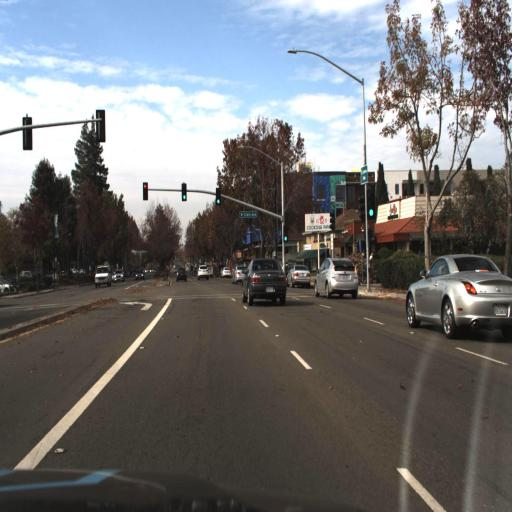car: (404, 252, 511, 335), (242, 256, 290, 308), (313, 258, 356, 296), (285, 259, 310, 289), (91, 262, 114, 294), (233, 259, 254, 289), (95, 261, 112, 290), (195, 260, 214, 282), (171, 263, 188, 286), (281, 221, 292, 245)
trafficLight-Green: (369, 188, 379, 221), (181, 180, 191, 207), (213, 186, 222, 211), (213, 191, 223, 212), (279, 229, 290, 247), (180, 188, 189, 206)
trafficLight-Red: (141, 181, 148, 203)
trafficLight-RedLeft: (140, 176, 148, 204)
